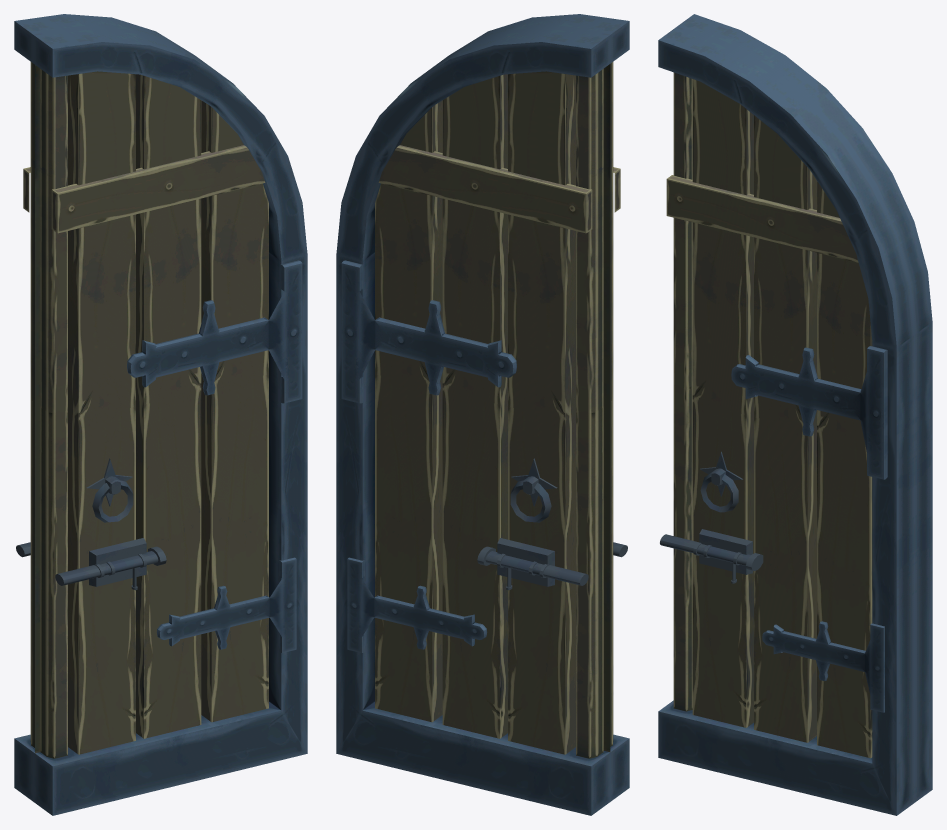
File: SM_Tavern_Door_01.gltf
The picture shows the model from 3 angles, left to right: view 1: azimuth 30°, elevation 25°; view 2: azimuth 150°, elevation 25°; view 3: azimuth 330°, elevation 25°; orthographic projection. The views are drawn at different scales.
Parts seen in each view (by area): view 1: SM_Tavern_Door_01; view 2: SM_Tavern_Door_01; view 3: SM_Tavern_Door_01.
Boxes of the visible parts, x1,y1,x2,y2 form: SM_Tavern_Door_01: (14,14,307,815); SM_Tavern_Door_01: (336,14,629,815); SM_Tavern_Door_01: (658,14,932,815).
Bounding box in the file's own units: 1 × 2.88 × 0.3575.
1 material, 1 textured.
